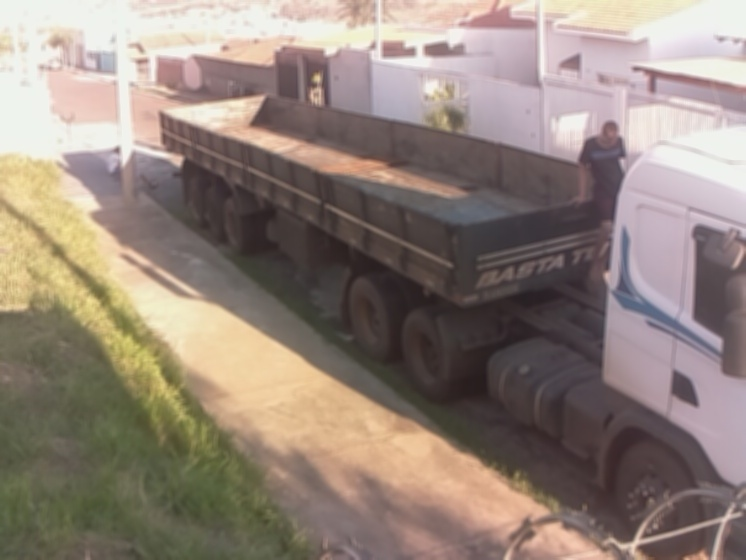person: (565, 120, 629, 285), (107, 143, 123, 175)
